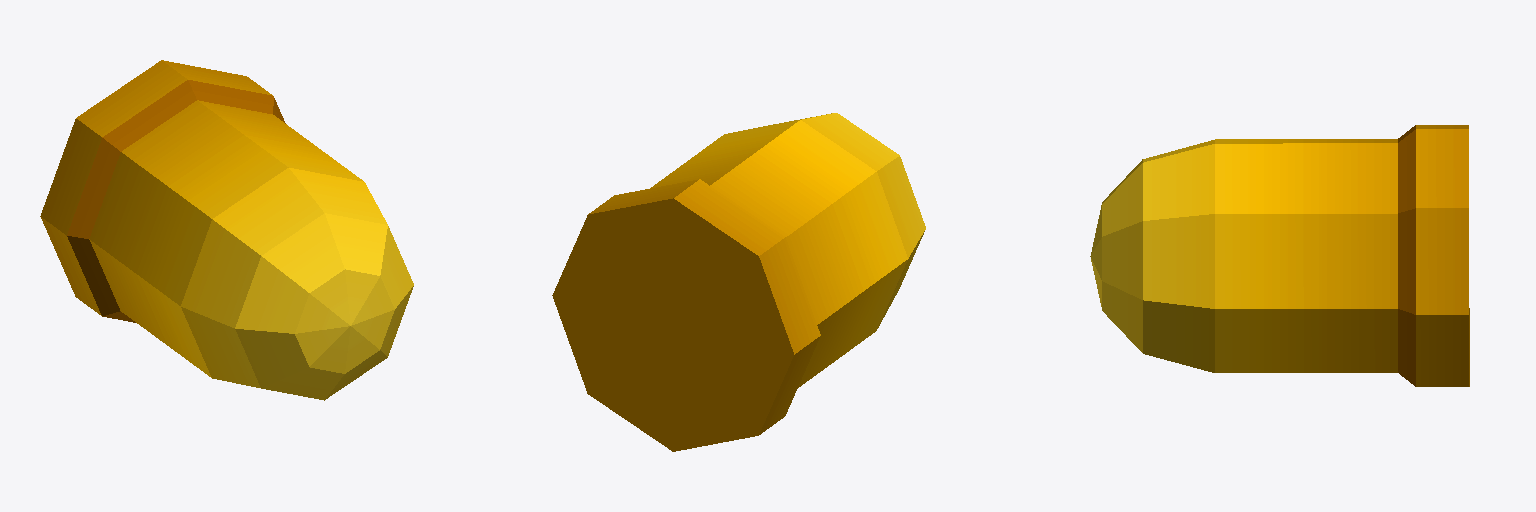
3 views of the same model, side by side, from view 1: azimuth 30°, elevation 25°; view 2: azimuth 150°, elevation 25°; view 3: azimuth 270°, elevation 25° (orthographic).
Visible parts, largest first — view 1: Weapon_Tank_Shell_01; view 2: Weapon_Tank_Shell_01; view 3: Weapon_Tank_Shell_01.
Part boxes in pixels (x1,y1,x2,y2): Weapon_Tank_Shell_01: (40,60,413,400); Weapon_Tank_Shell_01: (552,113,925,451); Weapon_Tank_Shell_01: (1090,125,1469,386).
Size of the model in its own units: 0.2024 by 0.2025 by 0.2745.
Materials: 1 (1 with a texture image).